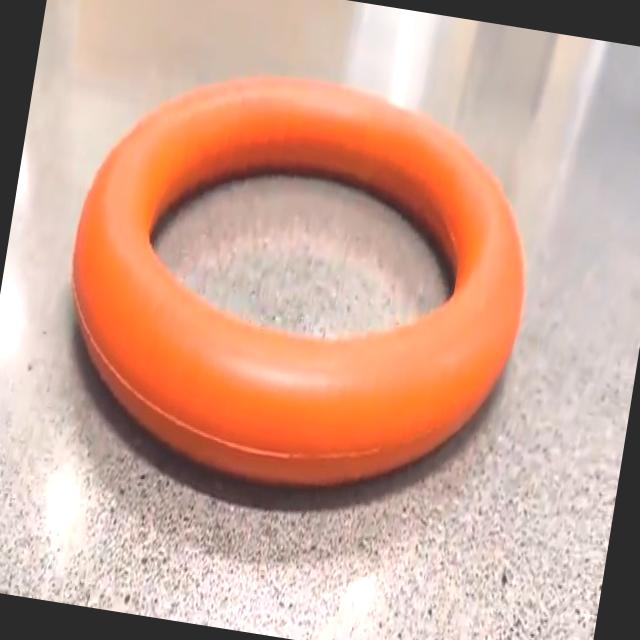note: (72, 78, 524, 484)
